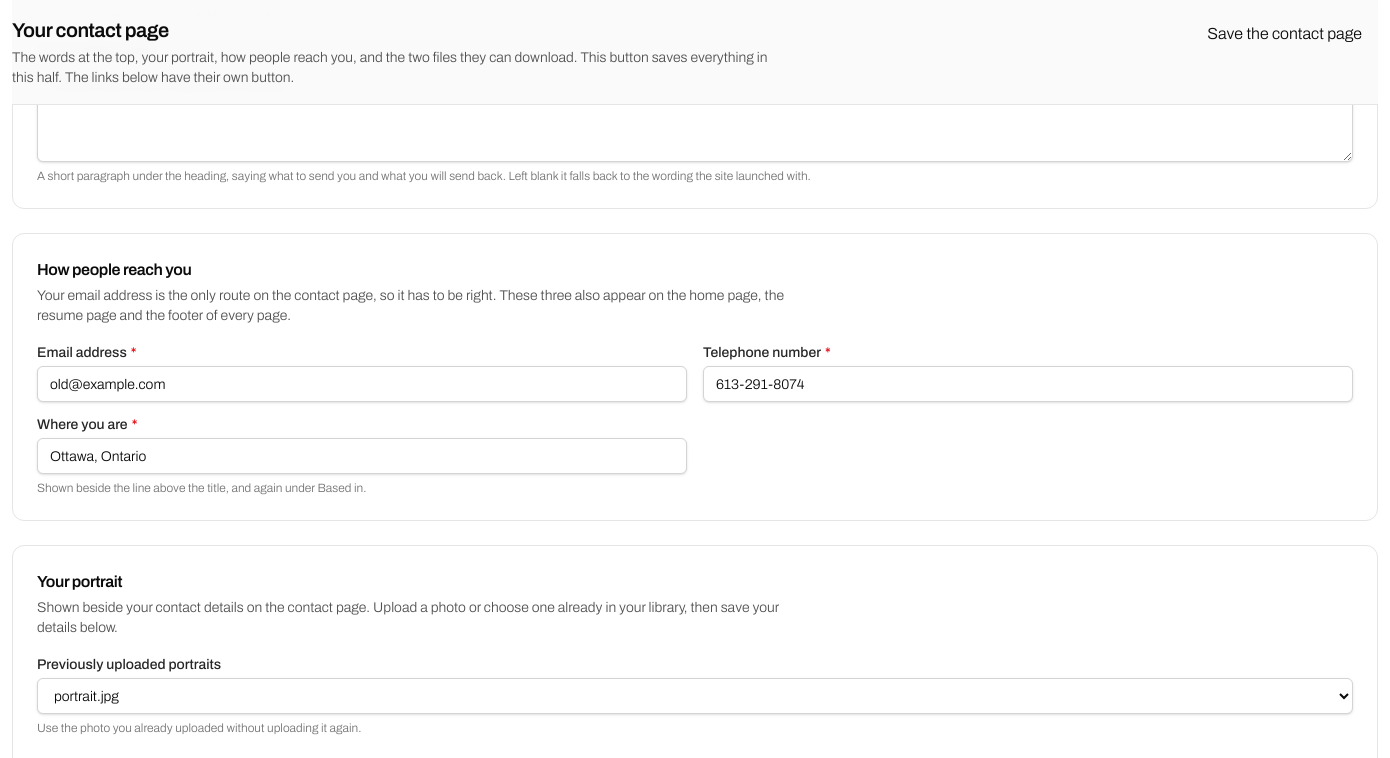
Test: saving the contact page › refuses a blank email without asking the server
(page scrolled)
Clear the field labelled "Email address*" at (362, 384), box [37,366,687,402]
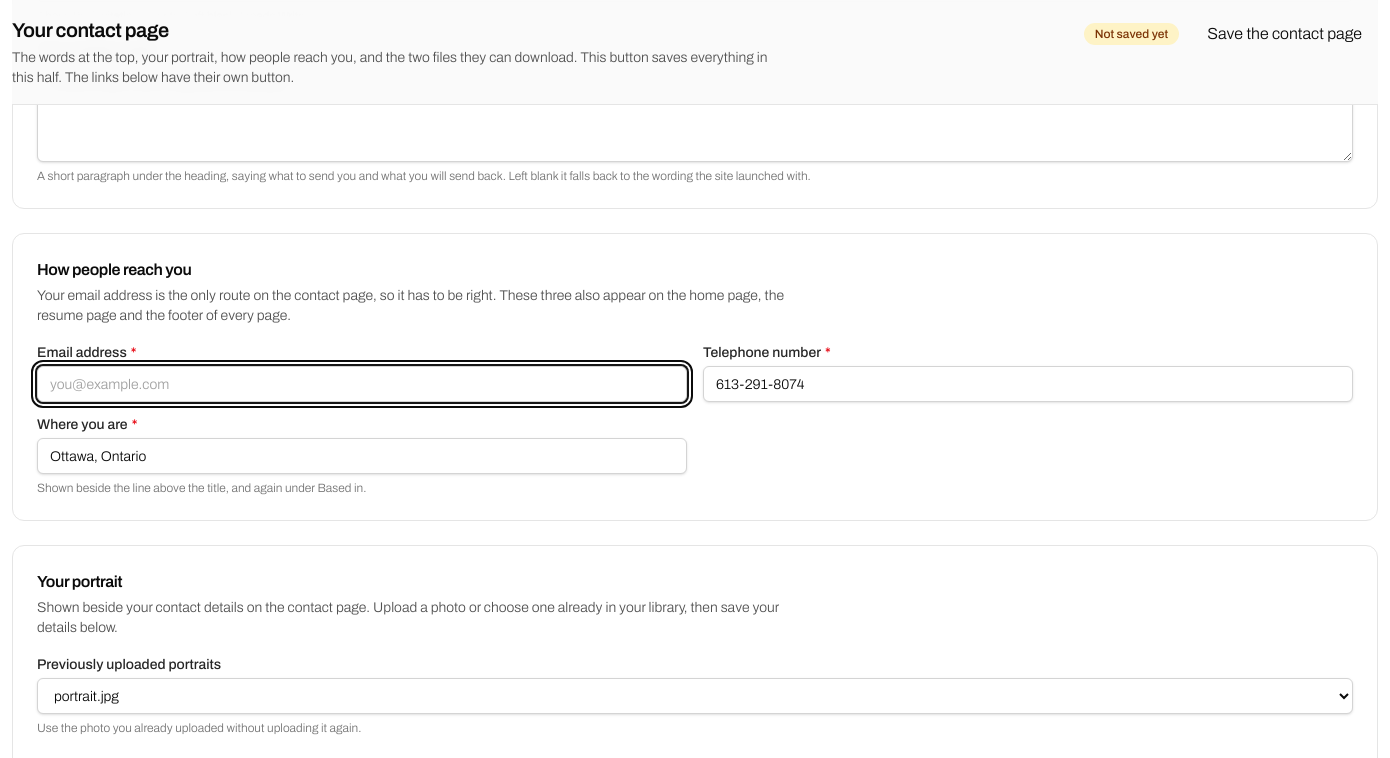
Click the button "Save the contact page" at (1285, 34), box [1191,16,1378,52]
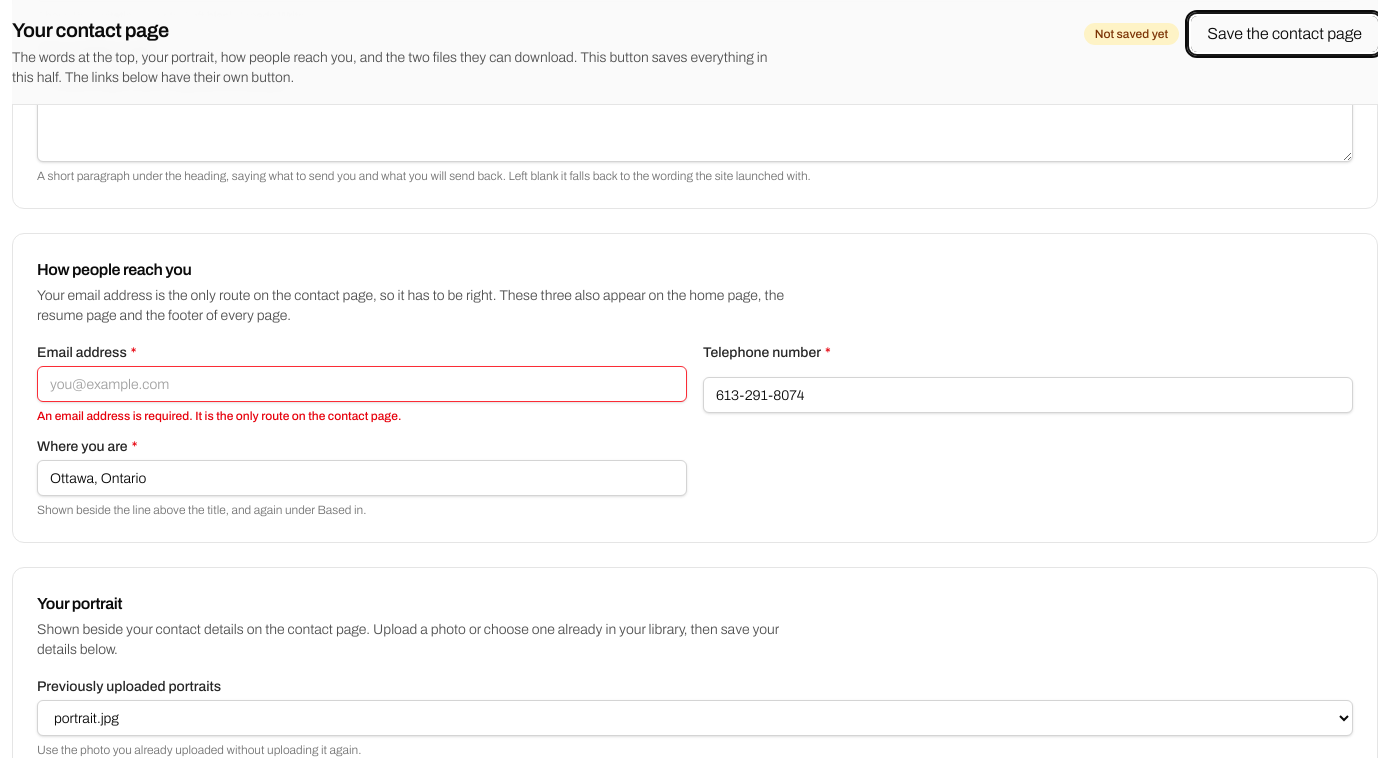
Result: the message shows "email address is required" at [37,409,401,423]
